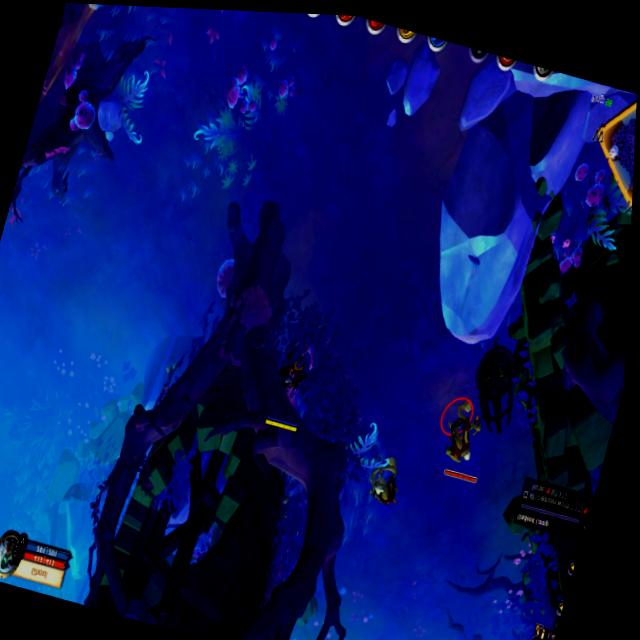ore: (429, 394, 498, 491), (362, 444, 415, 520)
red: (259, 339, 324, 441)
